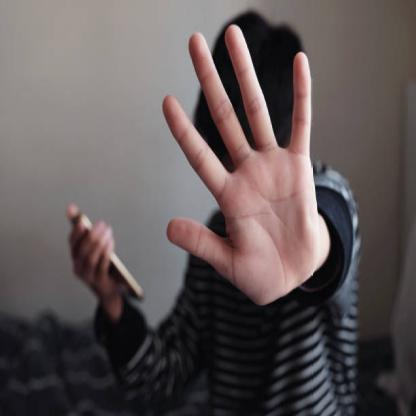stop: (158, 20, 322, 308)
